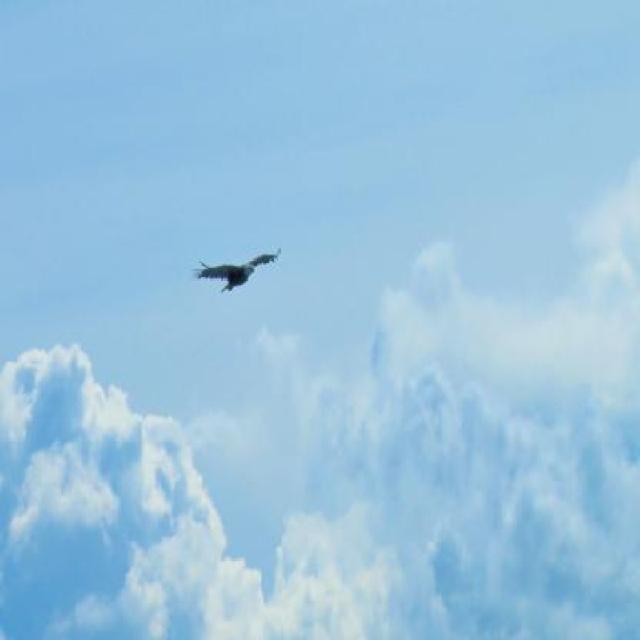bird: (193, 238, 284, 311)
